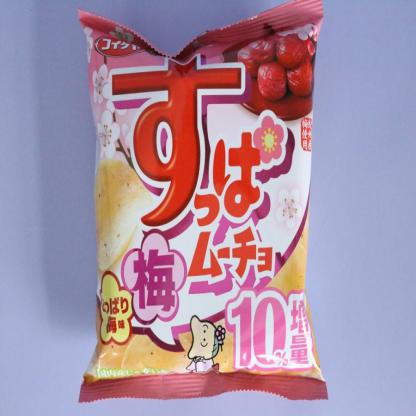potatochip: (73, 0, 333, 409)
